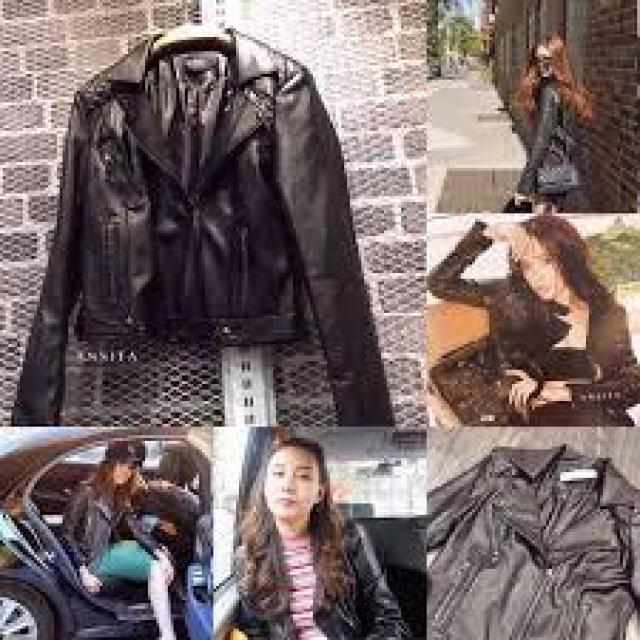jacket: (4, 35, 414, 422)
